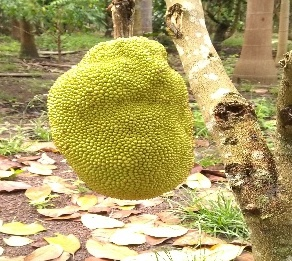Mit: (49, 37, 203, 194)
